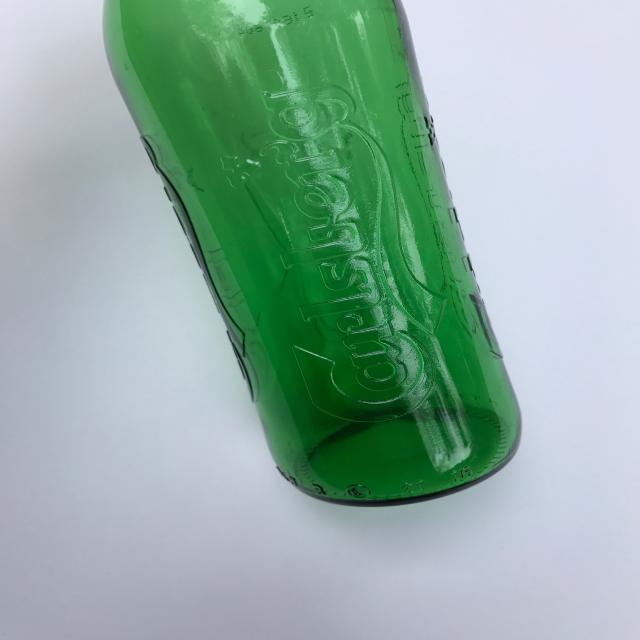glass: (101, 0, 524, 507)
